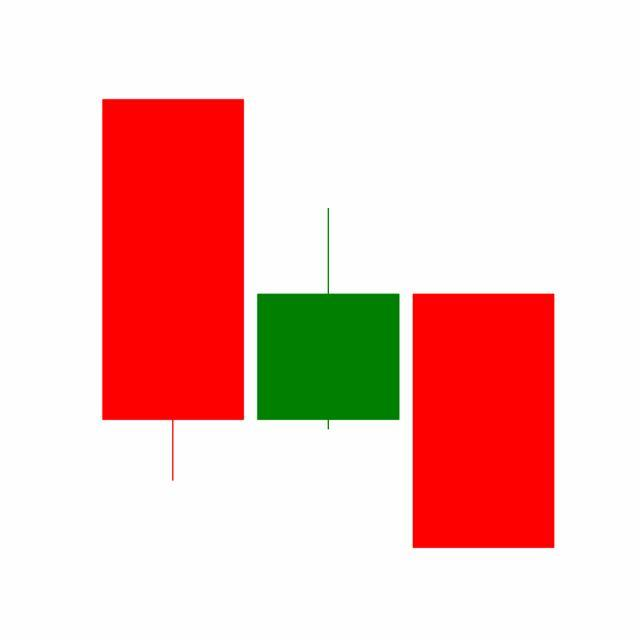Marubozu: (406, 292, 562, 552)
